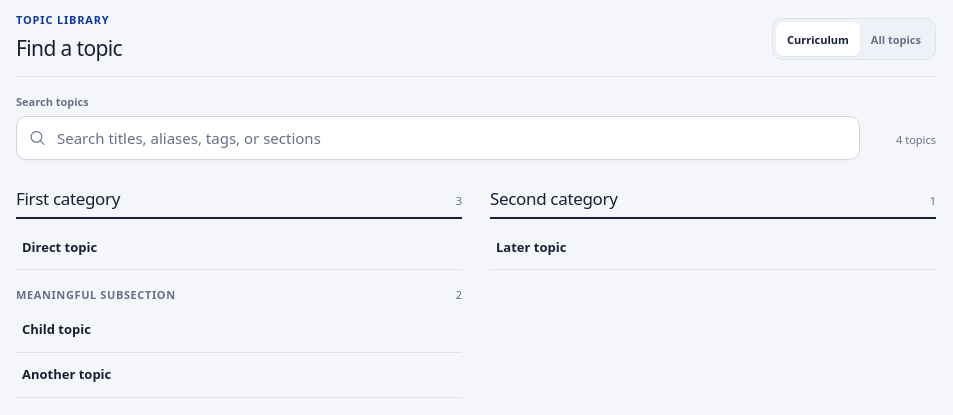
Test: TopicsBrowser › switches to one alphabetical all-topics index without duplicate links
Click the button "All topics": (896, 39) x1=860 y1=22 x2=932 y2=56
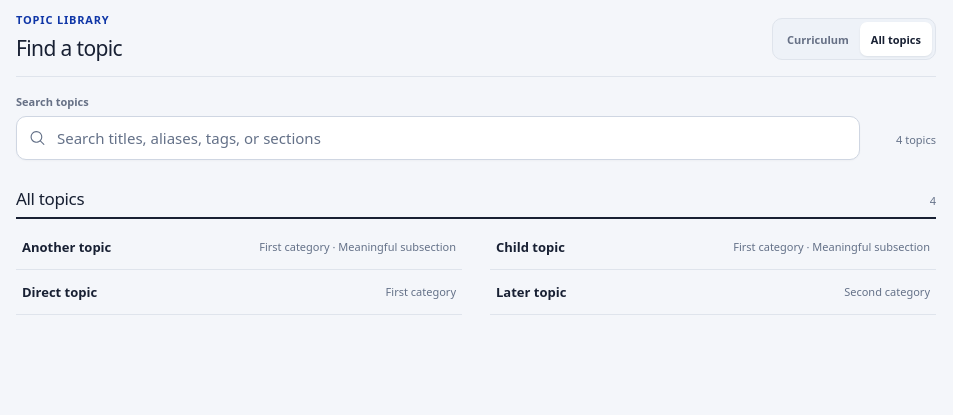
Expected: the number of links "Child topic" is 1, x1=496 y1=238 x2=930 y2=256
Expected: the heading "All topics" is shown, x1=16 y1=188 x2=84 y2=210
